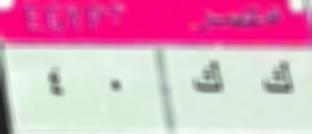0: (101, 72, 136, 99)
4: (40, 63, 69, 101)
kaaf: (256, 58, 296, 101), (189, 58, 225, 100)
